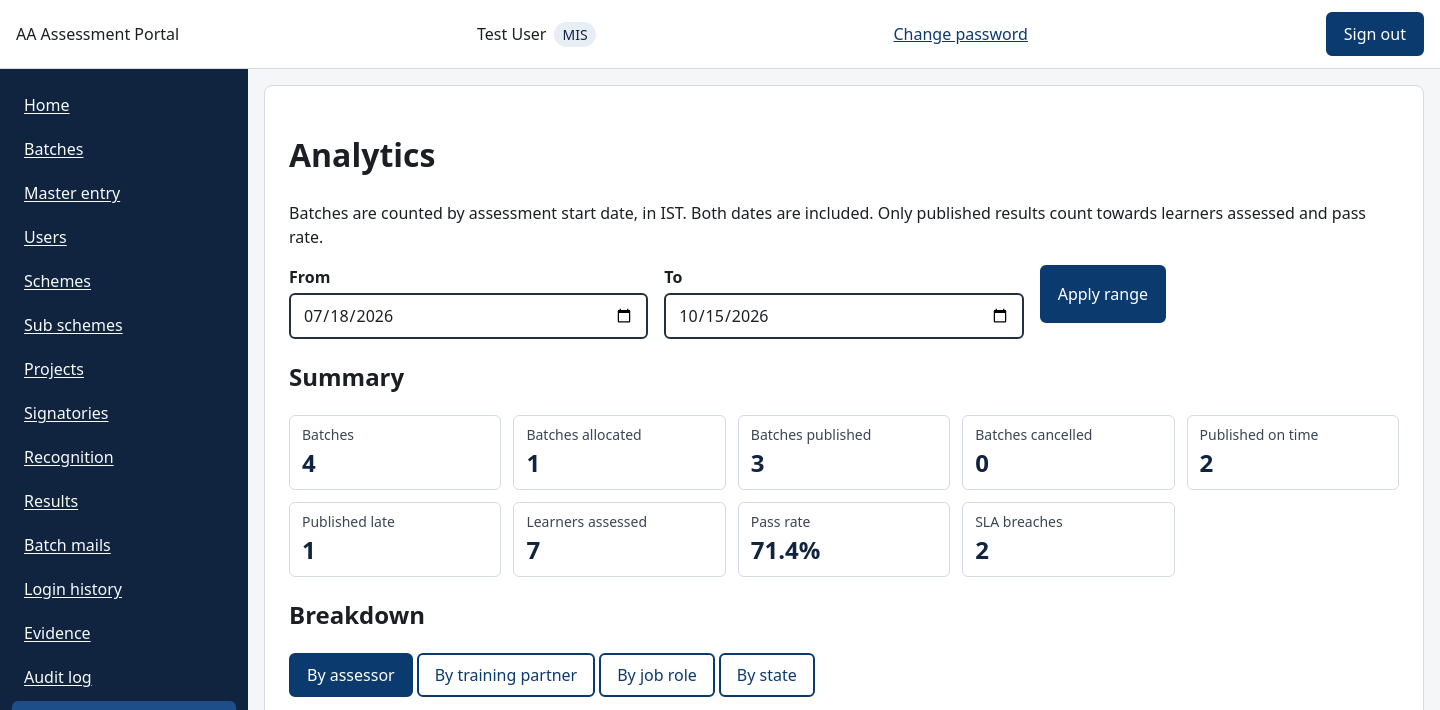
Test case: refuses a backwards range and a range of 3 years before any request
Expected: the text "Learners assessed" is shown, left=526, top=512, right=647, bottom=531
Step 1. Type "2026-10-16" into the date field labelled "From" → (469,316), box left=289, top=293, right=648, bottom=339
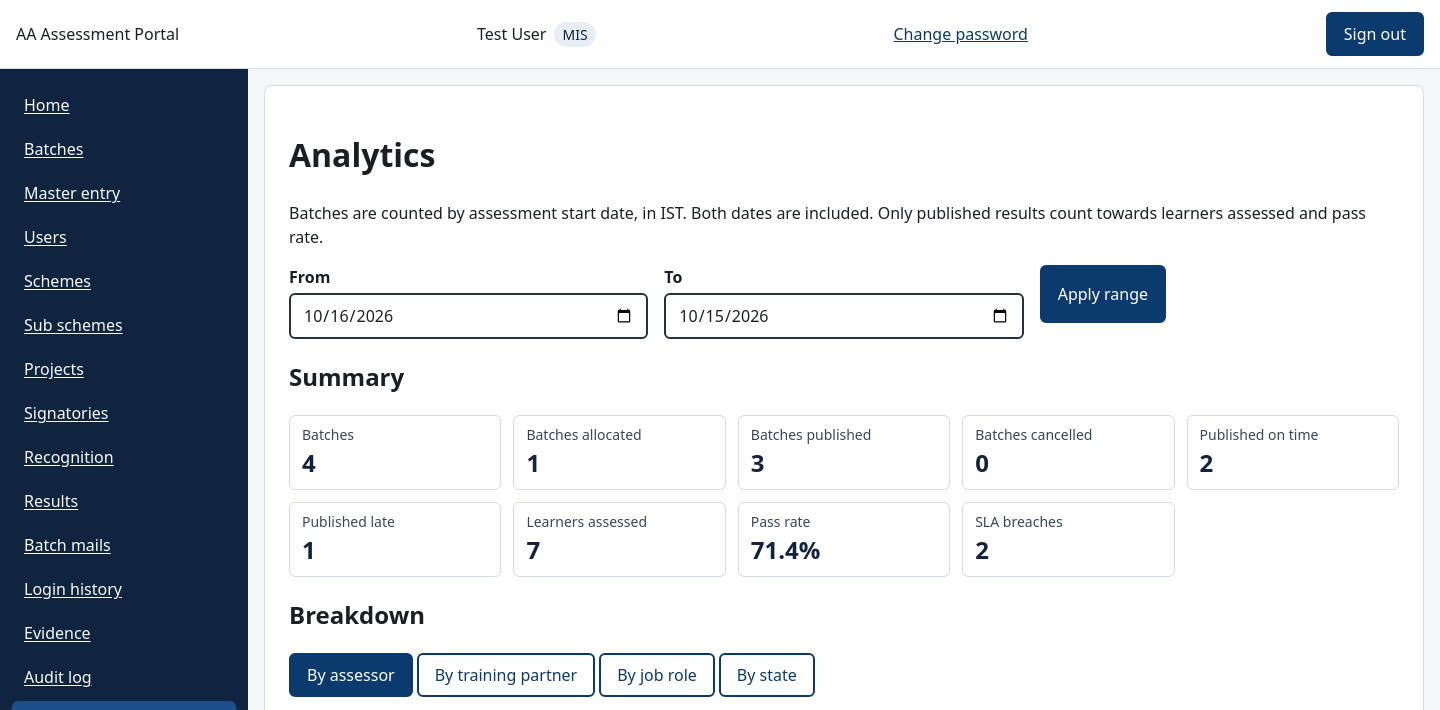
Step 2. Type "2026-10-01" into the date field labelled "To" → (844,316), box left=664, top=293, right=1024, bottom=339
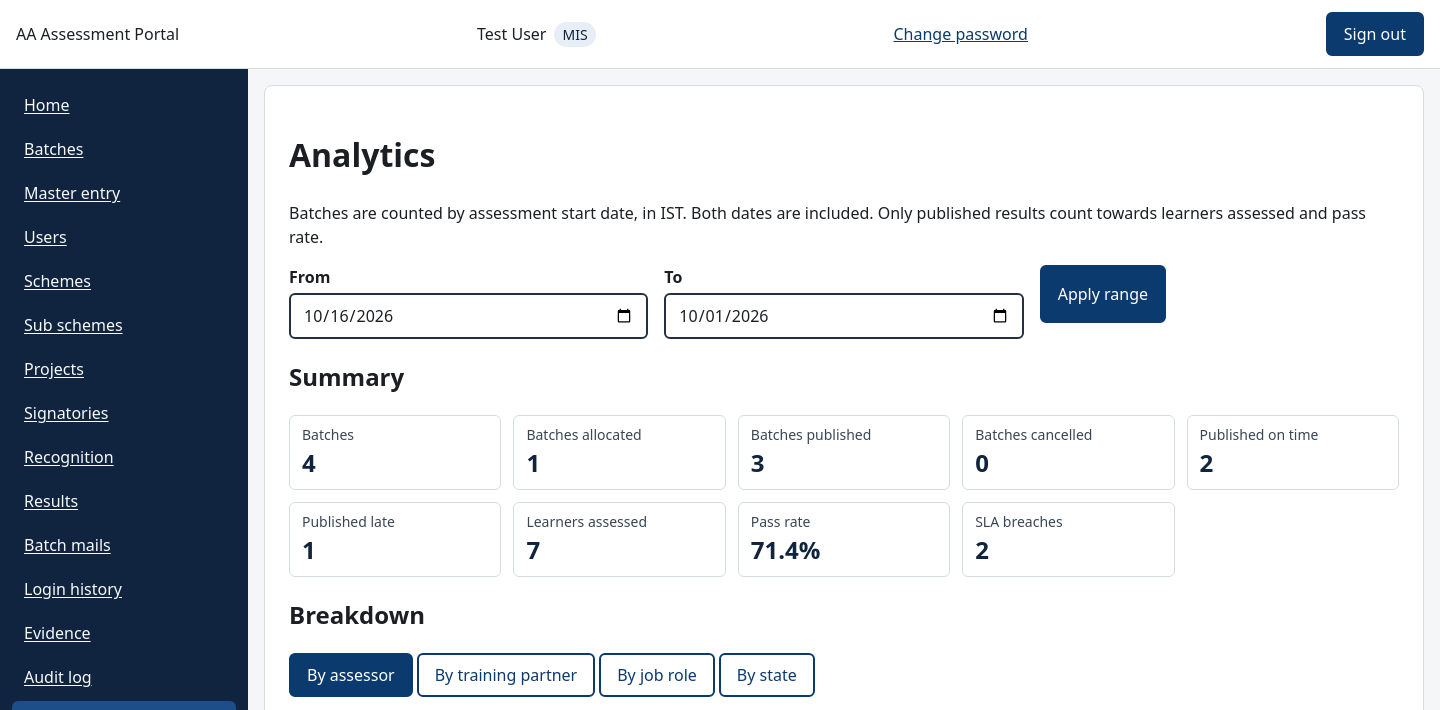
Step 3. Click the button "Apply range" → (1103,294), box left=1040, top=265, right=1166, bottom=323
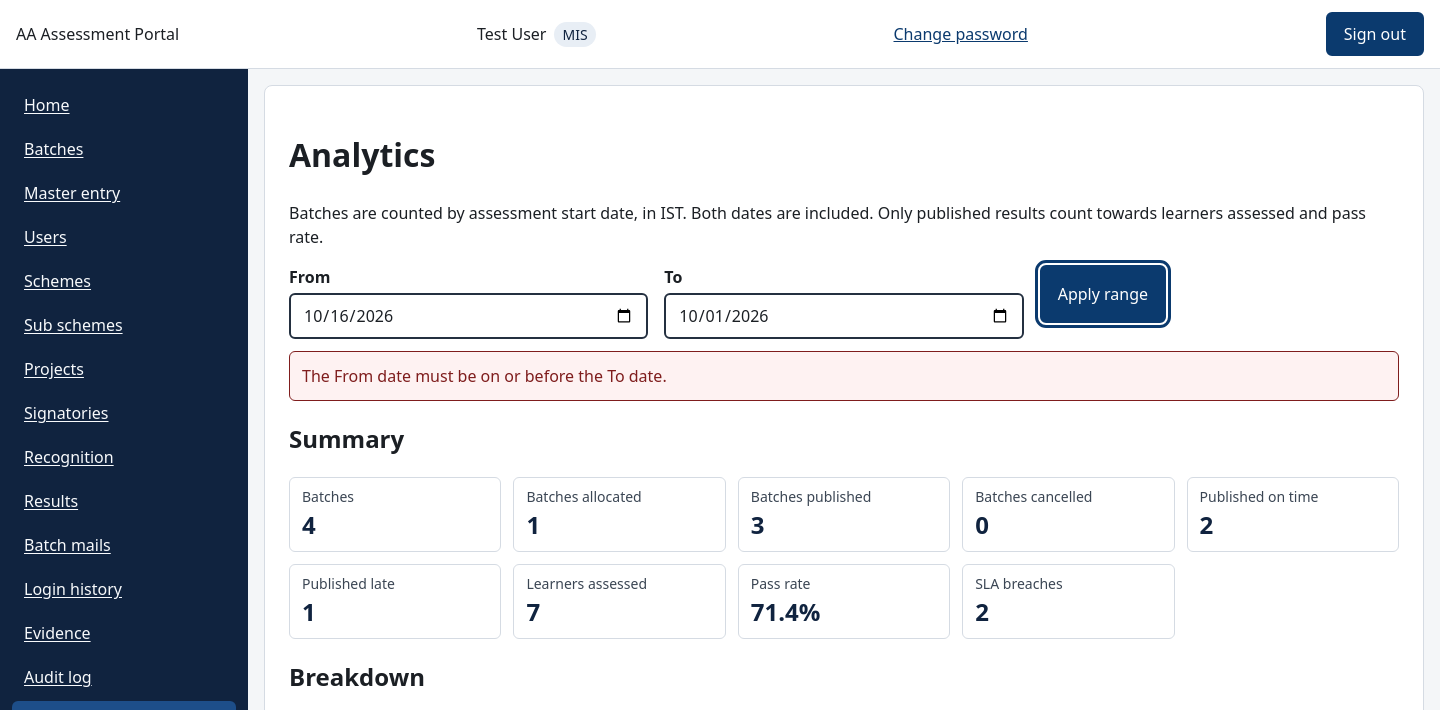
Expected: the message reads "The From date must be on or before the To date.", left=302, top=365, right=667, bottom=387
Step 4. Type "2023-10-15" into the date field labelled "From" → (469,316), box left=289, top=293, right=648, bottom=339
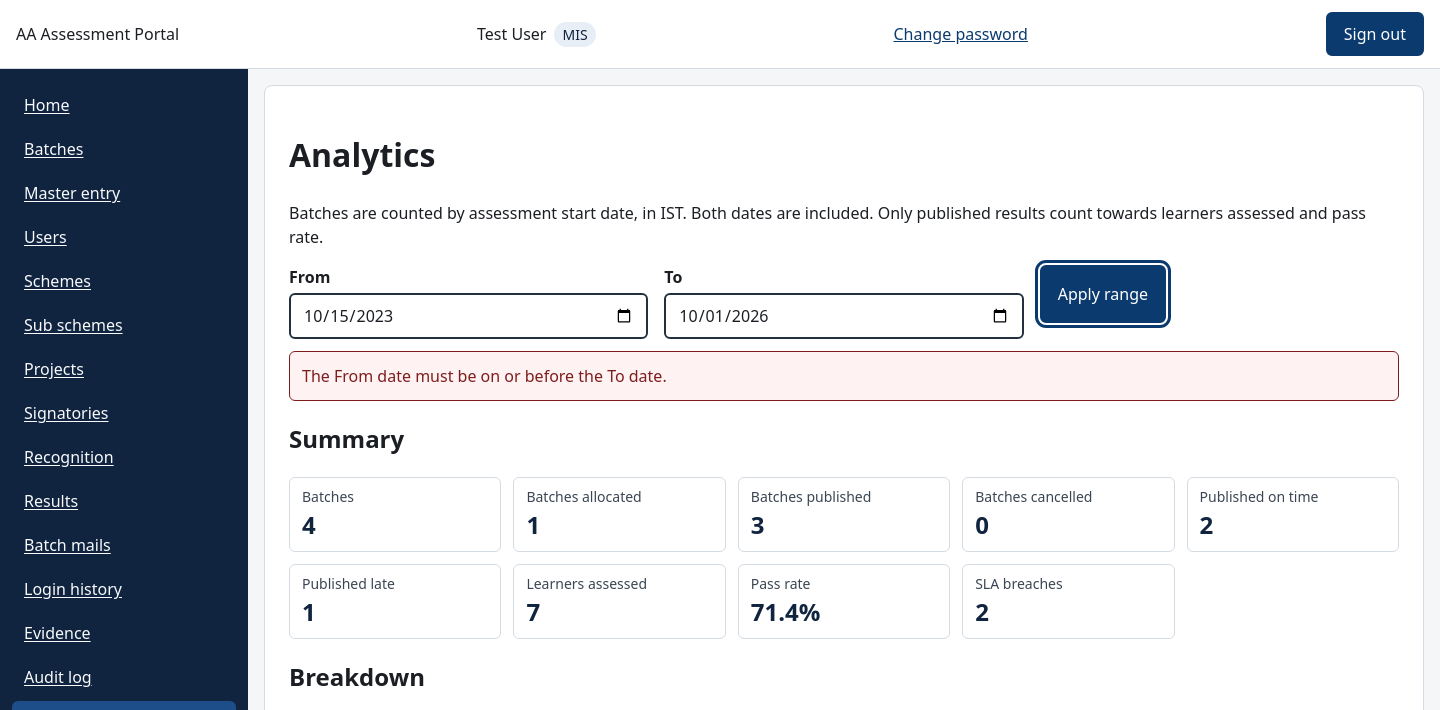
Step 5. Type "2026-10-15" into the date field labelled "To" → (844,316), box left=664, top=293, right=1024, bottom=339
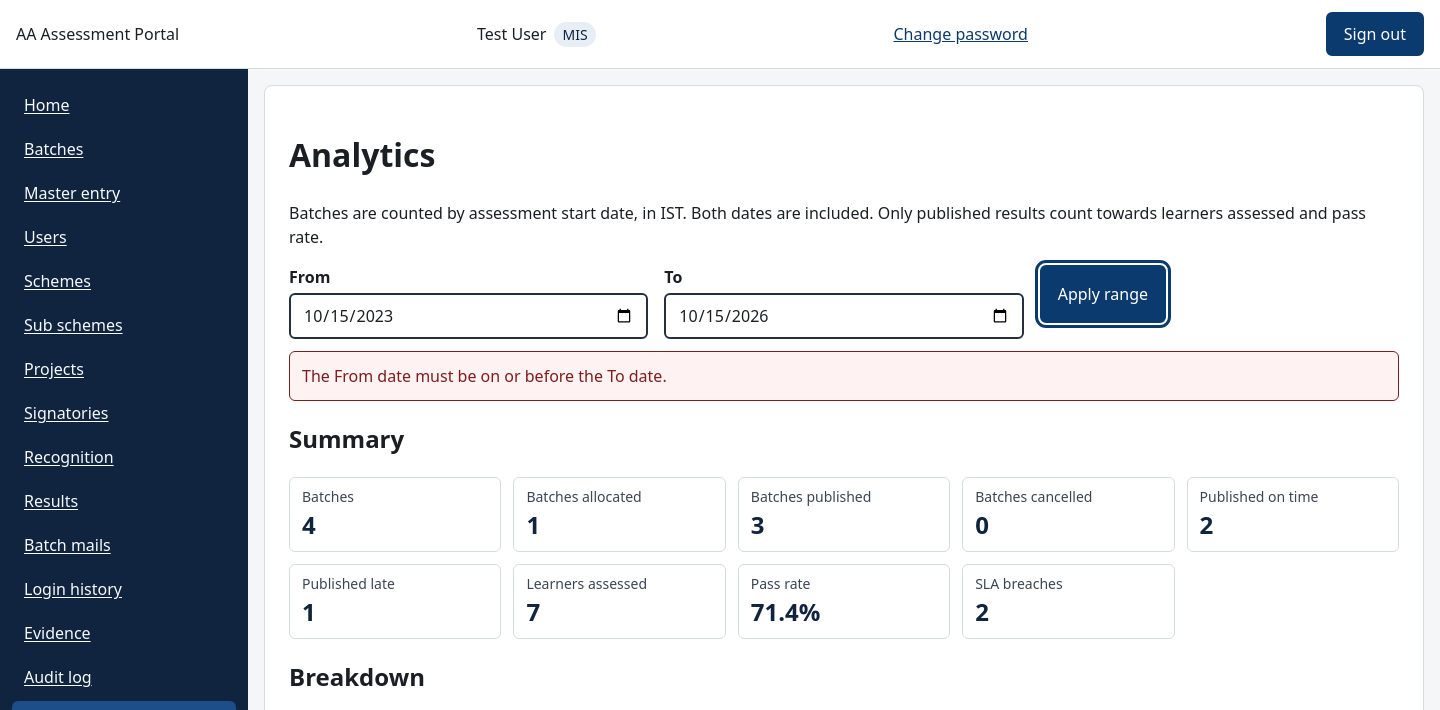
Step 6. Click the button "Apply range" → (1103,294), box left=1040, top=265, right=1166, bottom=323
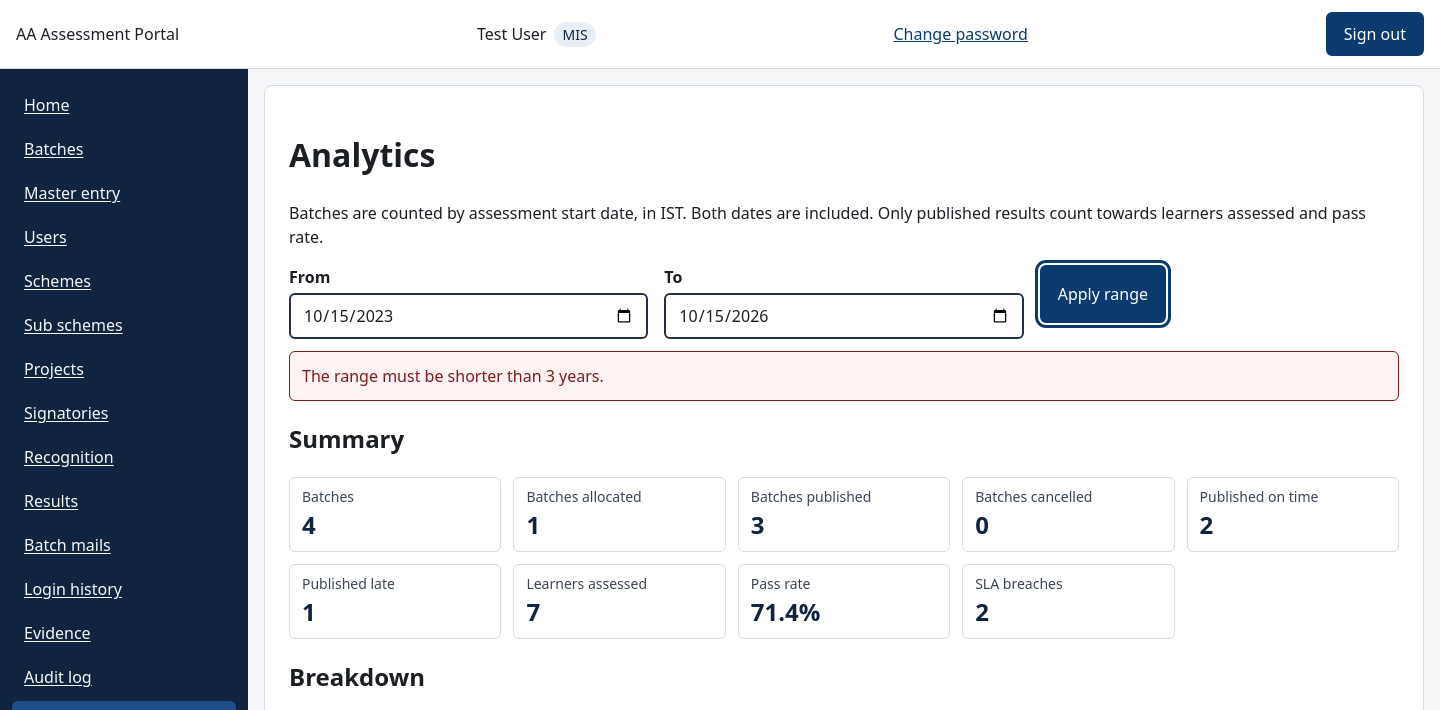
Expected: the message shows "shorter than 3 years", left=302, top=365, right=604, bottom=387
